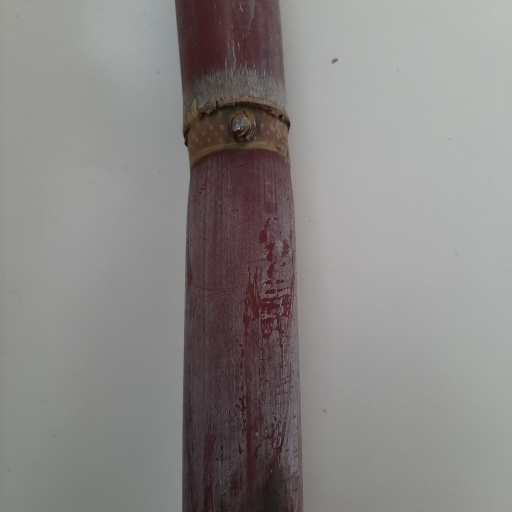Bud: (226, 108, 255, 146)
